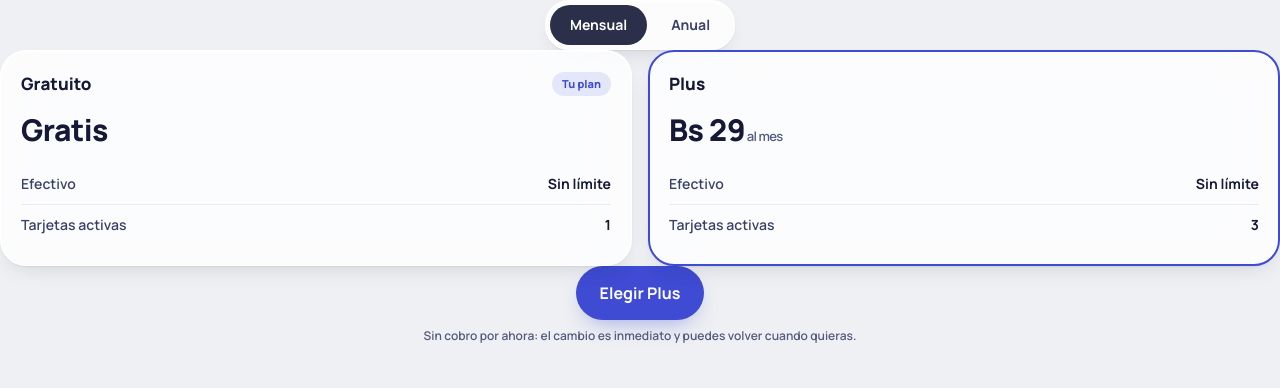
Planes › monthly or yearly changes the price; choosing has no charge (MM-188)
The image size is (1280, 388).
Check: the element with test id "plan-paid_1" shows "Bs 29 al mes", box [648,50,1279,266]
Check: the text with test id "plan-paid_1-finance.cards" reads "3", box [1251,214,1259,234]
Click the radio button labelled "Anual": click(691, 25) [651,5,730,45]
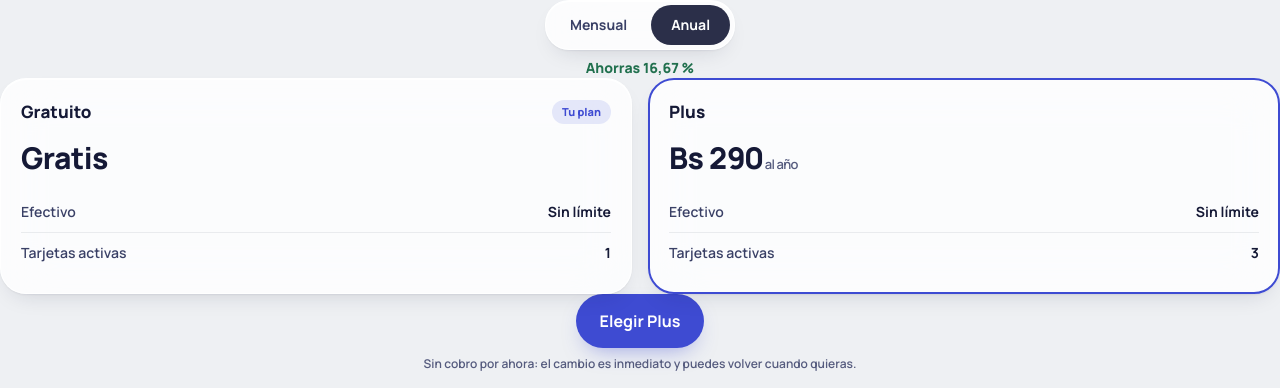
Check: the element with test id "plan-paid_1" shows "Bs 290 al año", box [648,78,1279,294]
Check: the text with test id "plans-saving" reads "Ahorras 16,67 %", box [586,58,694,77]
Note: El propio no ofrece comprarse.
Click the button "Gratuito Tu plan Gratis": click(56, 112) [17,95,615,184]
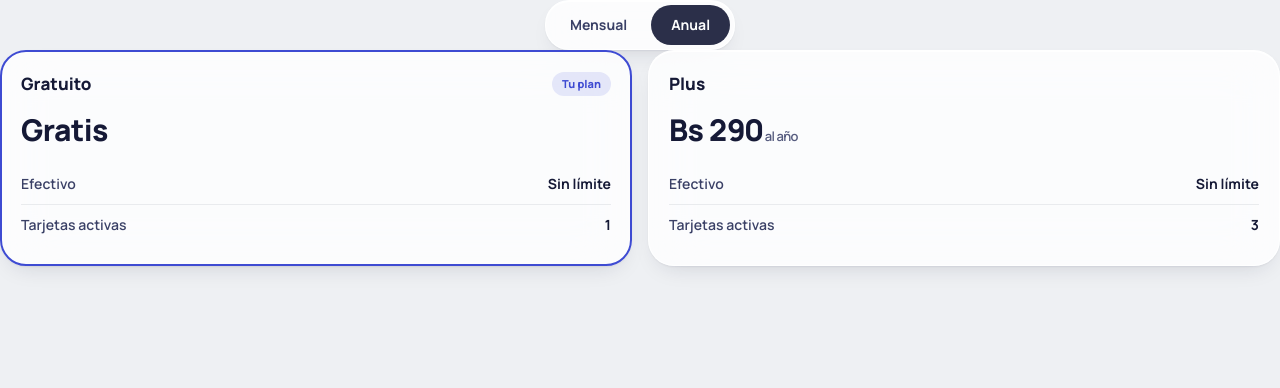
Check: the button with test id "plans-choose" is gone
